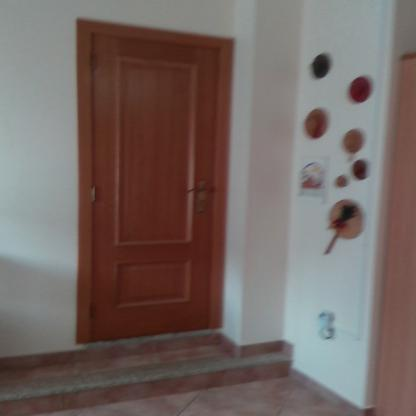door: (91, 37, 214, 335)
hinged: (88, 51, 96, 72), (90, 184, 96, 204), (88, 302, 94, 319)
lever: (186, 186, 208, 194)
